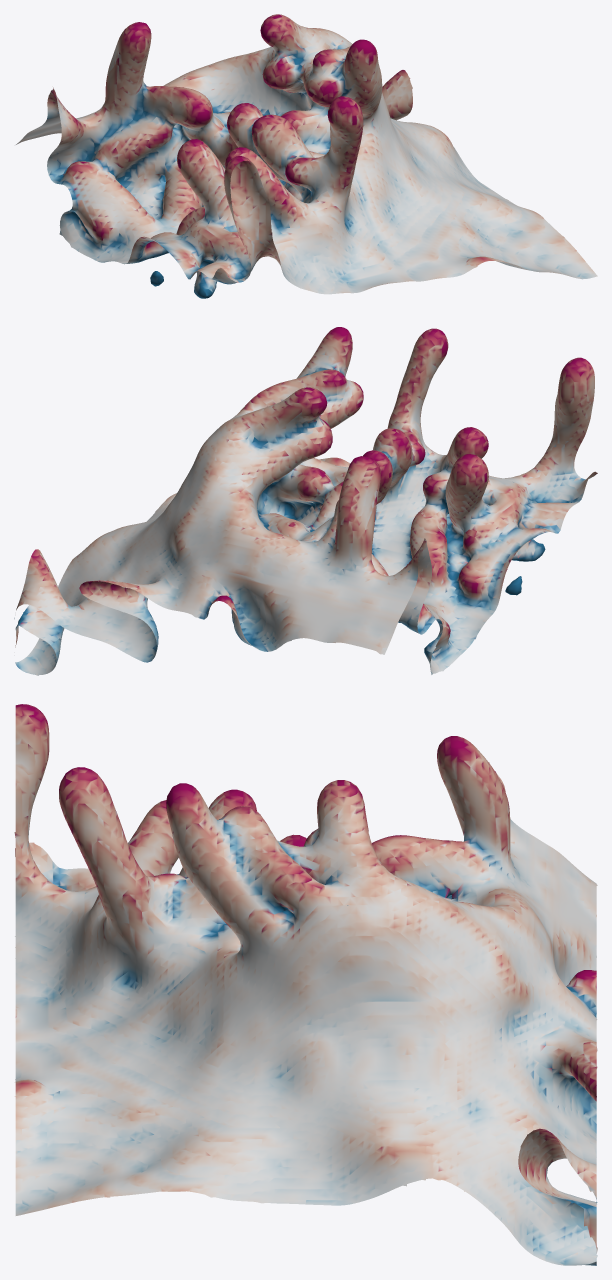
Rendered from crop1039_curvature.glb.
The picture shows the model from 3 angles, top to bottom: view 1: azimuth 30°, elevation 25°; view 2: azimuth 150°, elevation 25°; view 3: azimuth 270°, elevation 25°; orthographic projection. The views are drawn at different scales.
Visible parts, largest first — view 1: geometry_0; view 2: geometry_0; view 3: geometry_0.
Boxes of the visible parts, bbox=[...] form: geometry_0: bbox=[16, 14, 597, 298]; geometry_0: bbox=[14, 327, 597, 675]; geometry_0: bbox=[14, 704, 597, 1265].
Size of the model in its own units: 1480 by 1040 by 1480.
